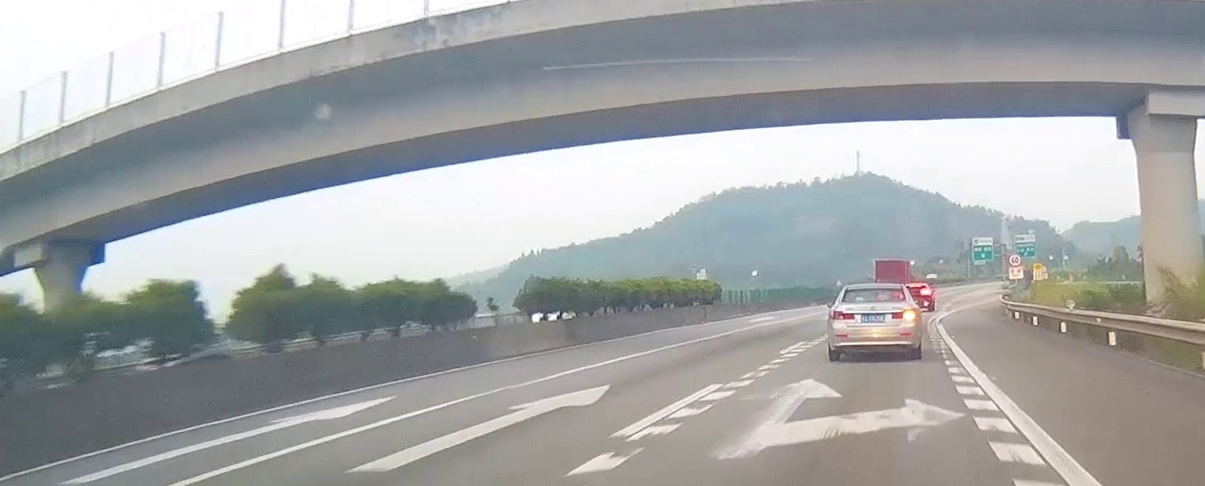L_light: (832, 311, 855, 319)
R_light: (892, 309, 916, 319)
T_light: (867, 297, 880, 301)
day-right: (827, 283, 922, 361)
